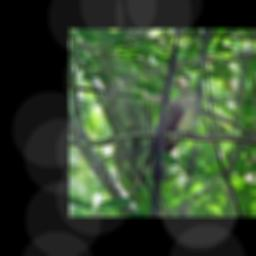Cuckoo: (124, 74, 201, 199)
